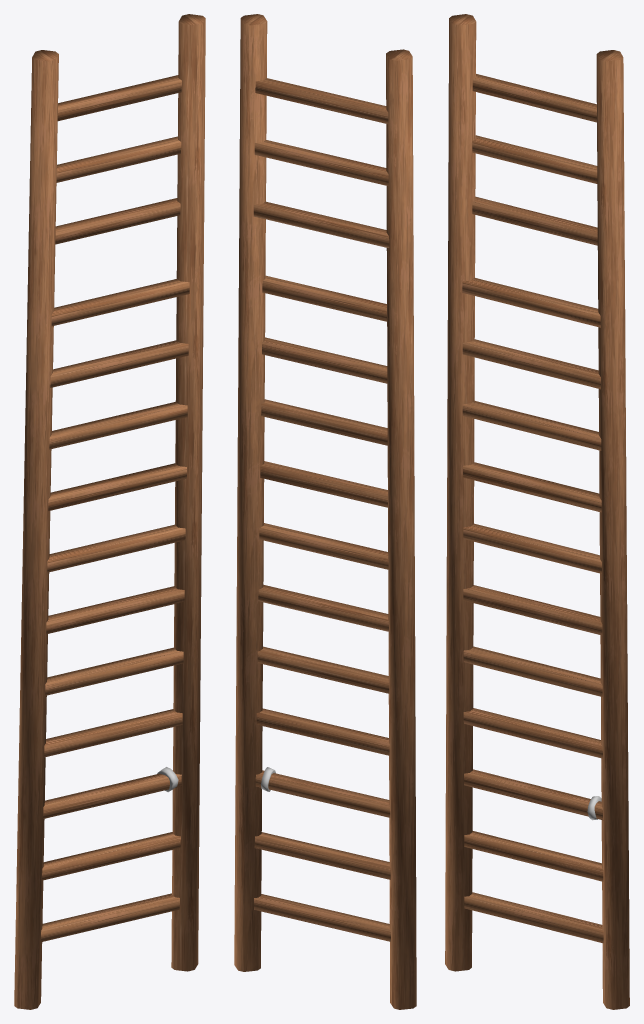
The model's file is Ladder_Long.fbx.
3 views of the same model, side by side, from view 1: azimuth 30°, elevation 25°; view 2: azimuth 150°, elevation 25°; view 3: azimuth 330°, elevation 25° (orthographic).
Visible parts, largest first — view 1: Ladder_Long; view 2: Ladder_Long; view 3: Ladder_Long.
Part boxes in pixels (x1,y1,x2,y2): Ladder_Long: (14, 14, 205, 1009); Ladder_Long: (234, 14, 416, 1009); Ladder_Long: (445, 14, 629, 1009).
Bounding box in the file's own units: 1.74 × 8.71 × 0.3407.
